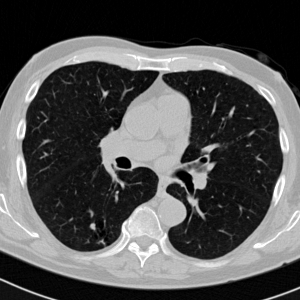nodule: (88, 222, 96, 230)
